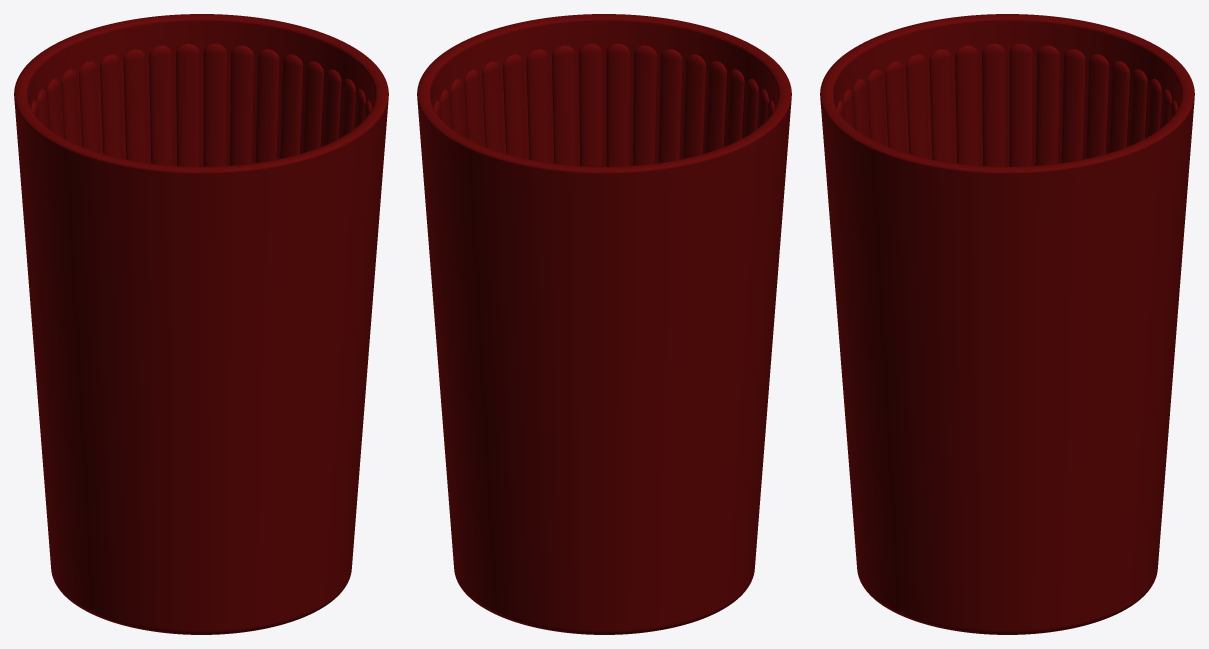
The model's file is model18lines.glb.
3 renders of one model, left to right at view 1: azimuth 30°, elevation 25°; view 2: azimuth 150°, elevation 25°; view 3: azimuth 270°, elevation 25°, orthographic.
Bounding box in the file's own units: 0.085 × 0.1208 × 0.085.
